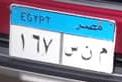1: (19, 31, 27, 52)
6: (31, 33, 40, 54)
7: (42, 36, 53, 58)
meem: (96, 45, 107, 68)
noon: (80, 43, 93, 63)
seen: (64, 43, 79, 60)
